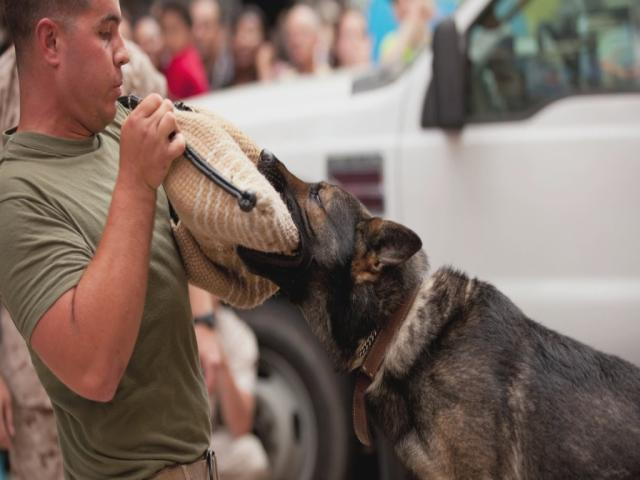Dog: (236, 146, 640, 479)
